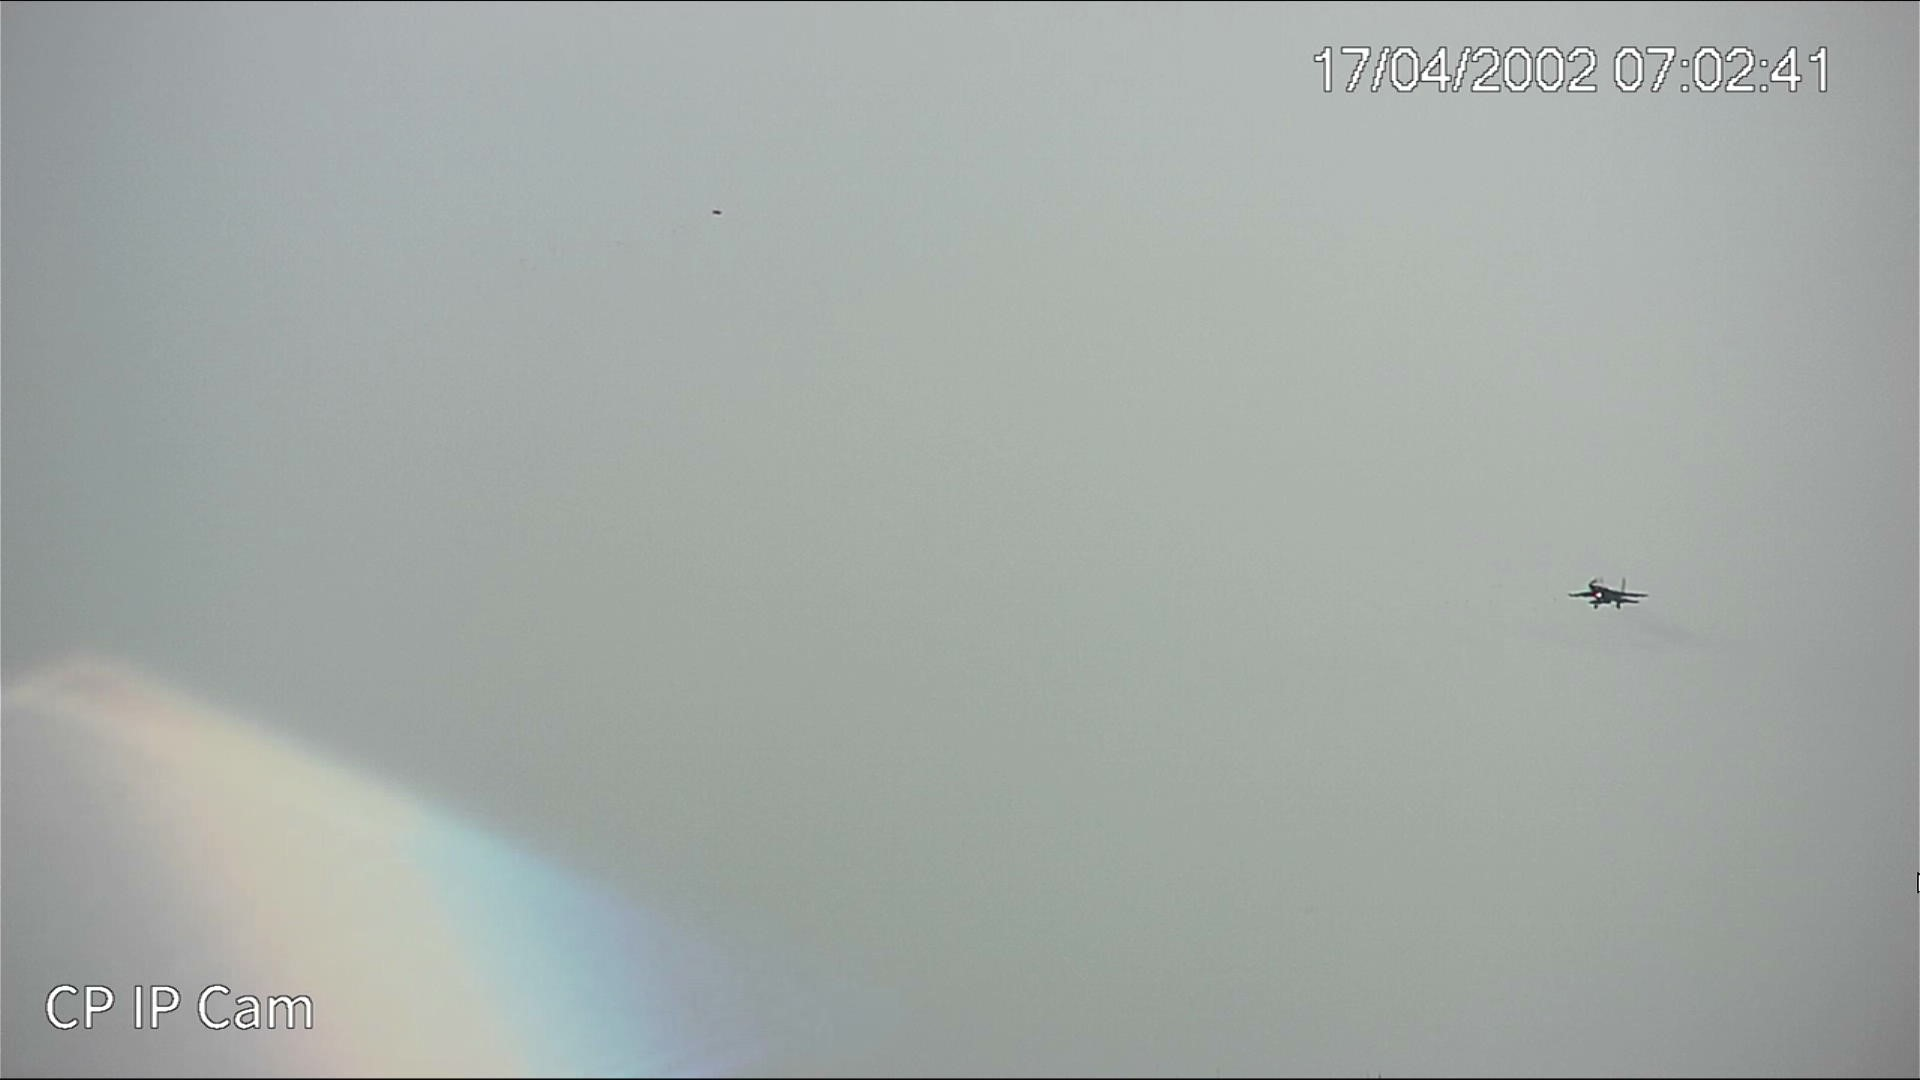SU_30: (1563, 574, 1647, 609)
